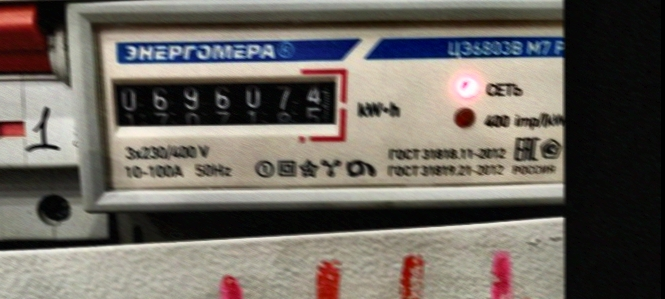0: (118, 84, 137, 109), (245, 80, 261, 106)
4: (306, 79, 322, 103)
5: (306, 103, 321, 121)
6: (151, 82, 170, 109), (213, 82, 230, 106)
7: (274, 81, 292, 107)
9: (181, 83, 200, 108)
screen: (100, 61, 352, 143)
